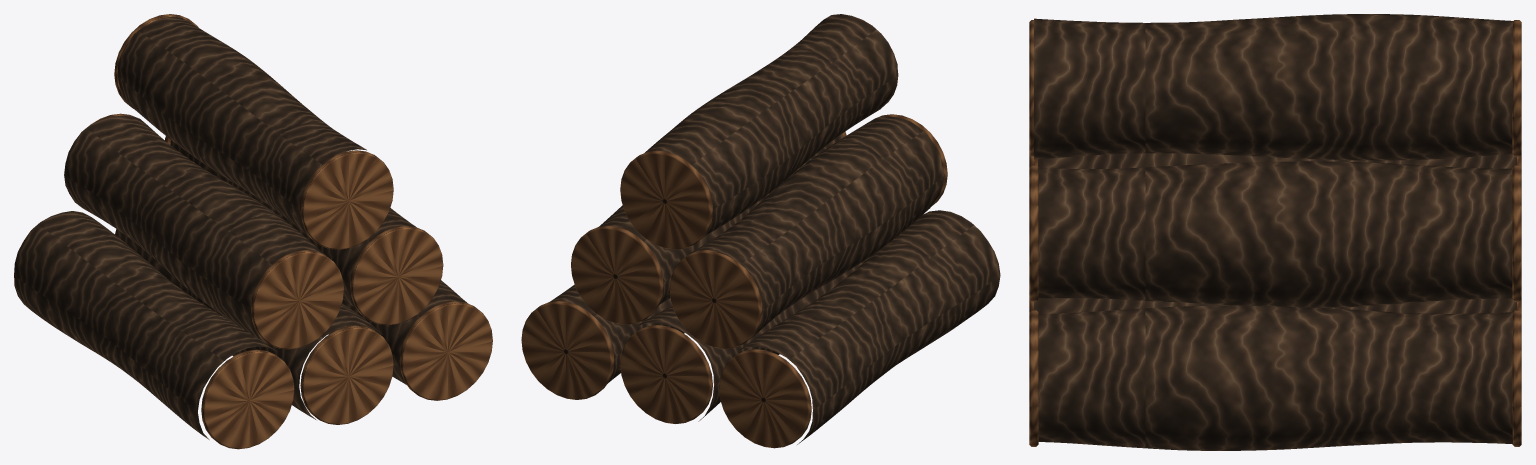
File: log_pile.gltf
3 views of the same model, side by side, from view 1: azimuth 30°, elevation 25°; view 2: azimuth 150°, elevation 25°; view 3: azimuth 270°, elevation 25° (orthographic). The views are drawn at different scales.
Visible parts, largest first — view 1: log_pile; view 2: log_pile; view 3: log_pile.
Part boxes in pixels (x1=…): log_pile: x1=14, y1=14, x2=492, y2=449; log_pile: x1=521, y1=14, x2=1000, y2=448; log_pile: x1=1029, y1=14, x2=1521, y2=450.
Size of the model in its own units: 2.4 by 2.14 by 2.65.
Materials: 2 (2 with a texture image).
